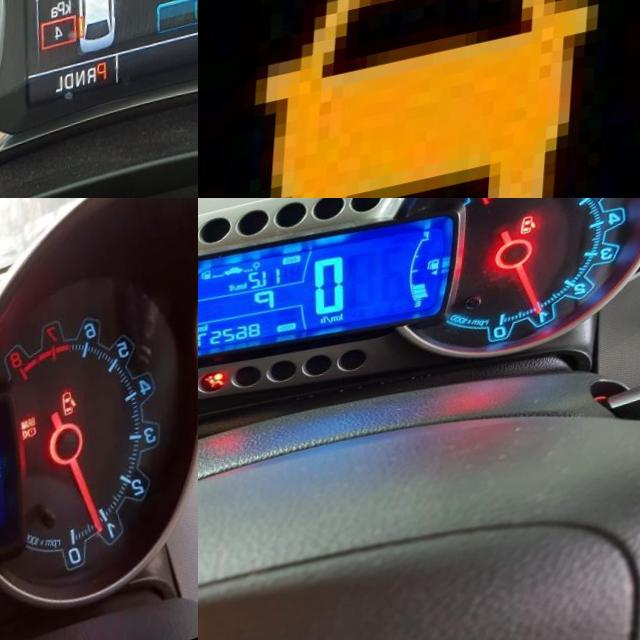Doors: (66, 407, 84, 437), (523, 231, 541, 252)
